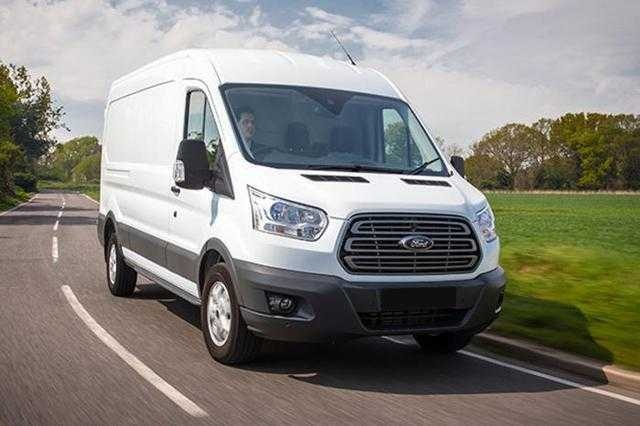van: (97, 49, 508, 366)
